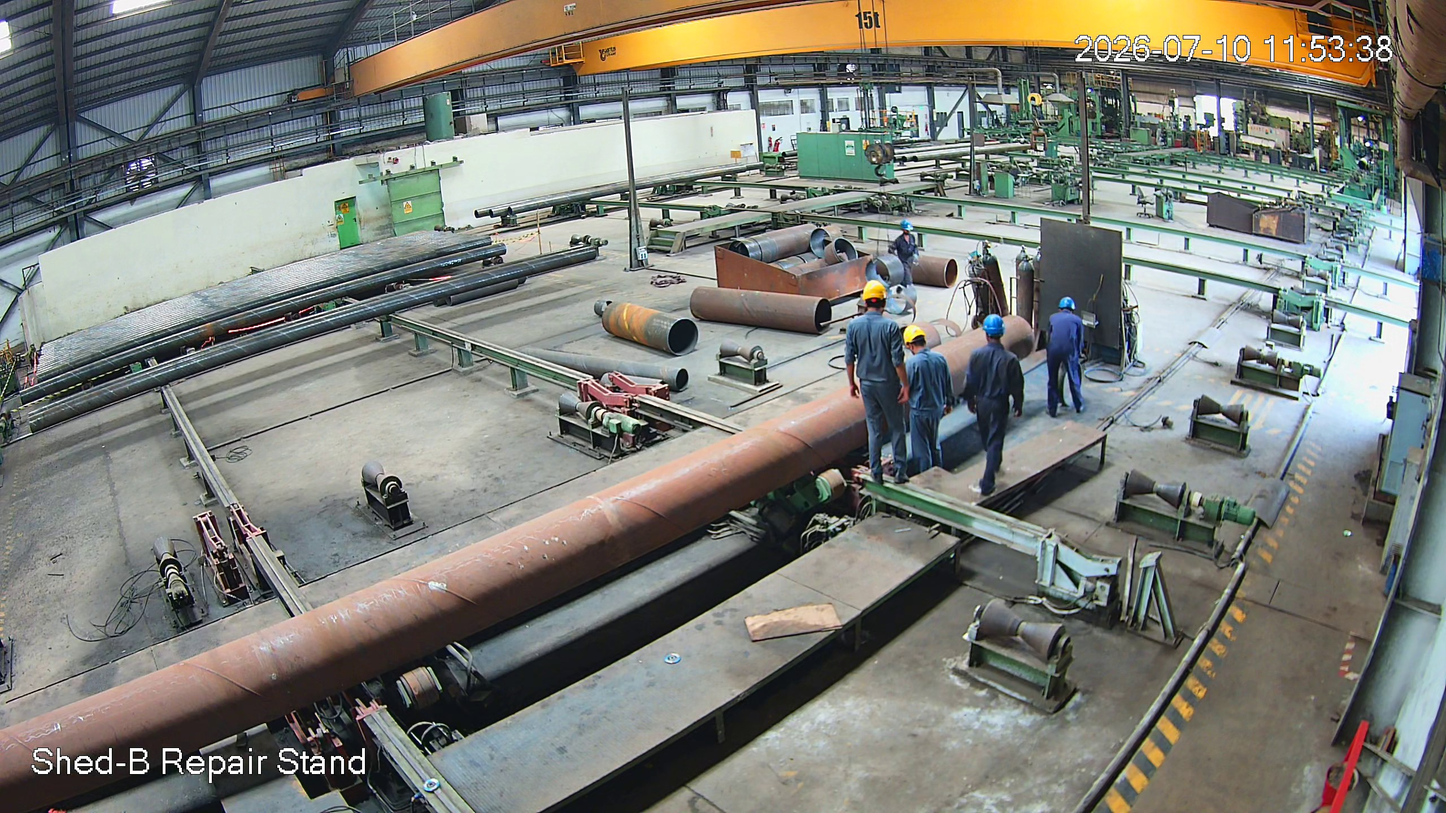Helmet: (854, 274, 891, 327), (977, 303, 1011, 352), (903, 316, 925, 374), (1055, 285, 1083, 321), (900, 211, 917, 242)
Person: (853, 280, 911, 487), (966, 308, 1021, 499), (1045, 289, 1097, 418), (905, 320, 942, 483), (882, 216, 925, 284)
